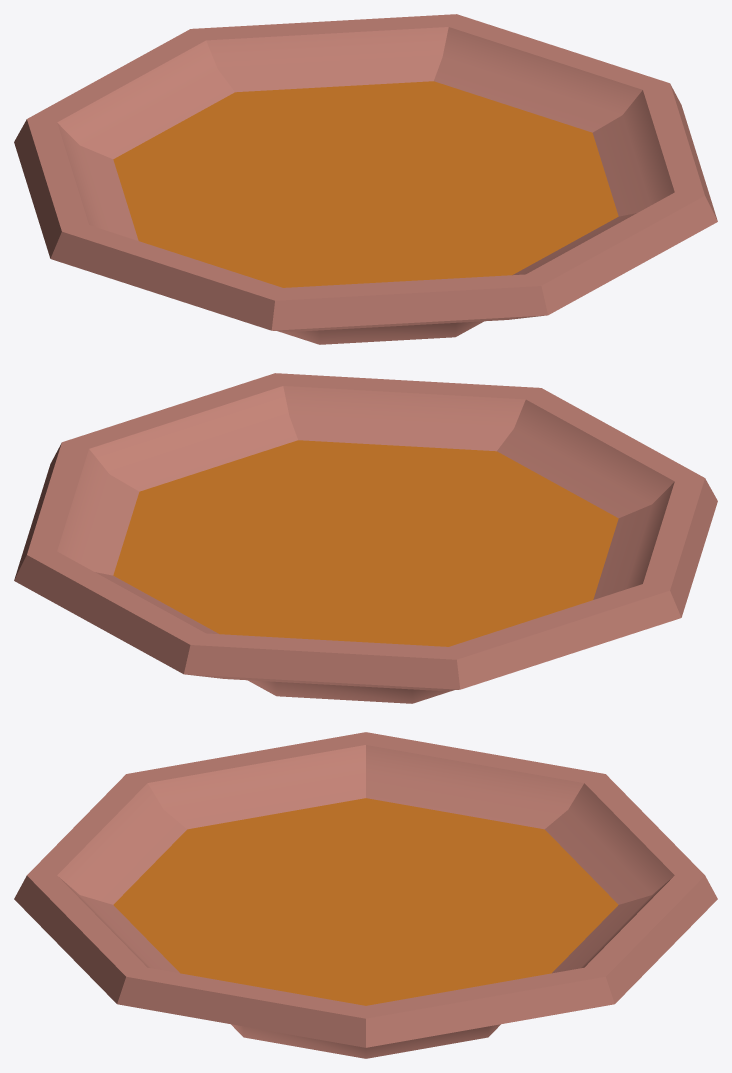
File: pigment_yellow.glb
3 renders of one model, top to bottom at view 1: azimuth 30°, elevation 25°; view 2: azimuth 150°, elevation 25°; view 3: azimuth 270°, elevation 25°, orthographic. The views are drawn at different scales.
Parts seen in each view (by area): view 1: polySurface1, pCylinder4; view 2: polySurface1, pCylinder4; view 3: polySurface1, pCylinder4.
Part boxes in pixels (x1,y1,x2,y2): polySurface1: [14, 14, 717, 344]; pCylinder4: [113, 81, 618, 287]; polySurface1: [14, 373, 717, 703]; pCylinder4: [113, 440, 618, 646]; polySurface1: [14, 732, 717, 1058]; pCylinder4: [113, 798, 618, 1005].
Size of the model in its own units: 0.0168 by 0.0029 by 0.0168.
Materials: 1 (1 with a texture image).
